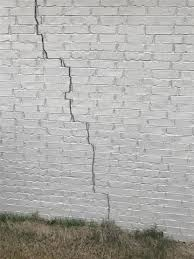stairstep_crack: (31, 0, 110, 221)
